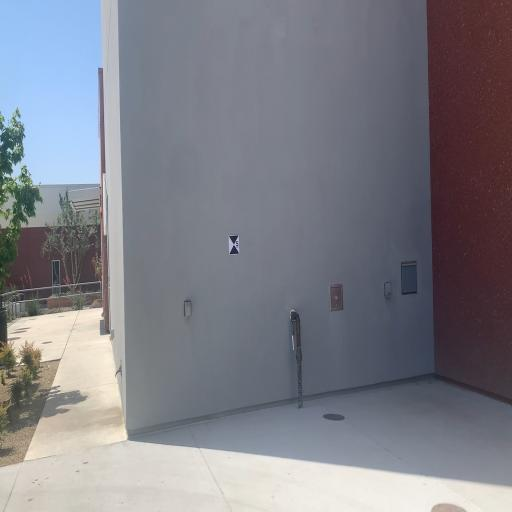target5: (228, 232, 240, 256)
